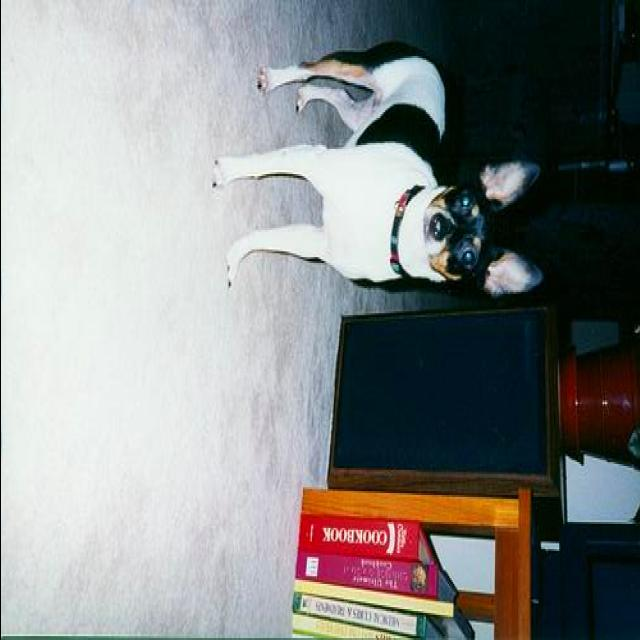toy_terrier: (208, 44, 542, 304)
